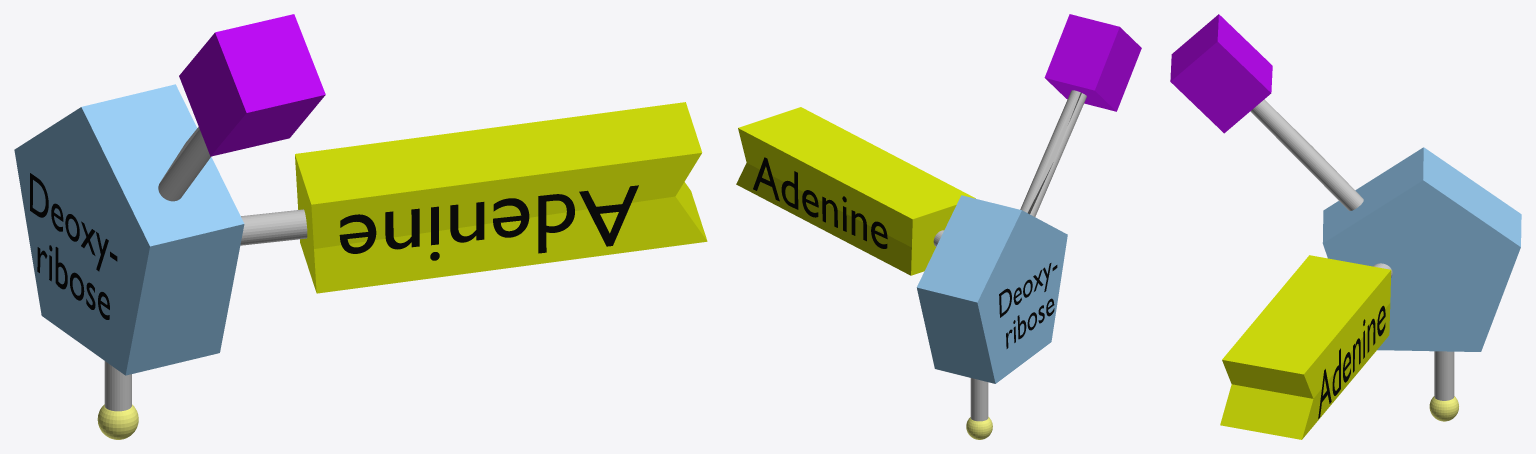
Rendered from adenine.glb.
3 renders of one model, left to right at view 1: azimuth 30°, elevation 25°; view 2: azimuth 150°, elevation 25°; view 3: azimuth 270°, elevation 25°, orthographic. The views are drawn at different scales.
Visible parts, largest first — view 1: Connector_Ribose_Base.001, Deoxyribose.004, Phosphate.001, Text.001, Text.006, Adenine; view 2: Deoxyribose.004, Connector_Ribose_Base.001, Phosphate.001, Text, Adenine, Text.006; view 3: Deoxyribose.004, Connector_Ribose_Base.001, Phosphate.001, Adenine, Text.
Part boxes in pixels (x1=…): Connector_Ribose_Base.001: x1=240, y1=102, x2=707, y2=293; Deoxyribose.004: x1=14, y1=84, x2=244, y2=375; Phosphate.001: x1=158, y1=14, x2=325, y2=201; Text.001: x1=339, y1=185, x2=638, y2=260; Text.006: x1=30, y1=173, x2=117, y2=319; Adenine: x1=97, y1=361, x2=138, y2=439; Deoxyribose.004: x1=916, y1=195, x2=1067, y2=383; Connector_Ribose_Base.001: x1=736, y1=107, x2=975, y2=275; Phosphate.001: x1=1020, y1=14, x2=1141, y2=216; Text: x1=753, y1=157, x2=887, y2=248; Adenine: x1=966, y1=378, x2=992, y2=439; Text.006: x1=999, y1=263, x2=1057, y2=348; Deoxyribose.004: x1=1322, y1=147, x2=1521, y2=351; Connector_Ribose_Base.001: x1=1220, y1=255, x2=1392, y2=439; Phosphate.001: x1=1170, y1=14, x2=1363, y2=210; Adenine: x1=1429, y1=351, x2=1458, y2=421; Text: x1=1318, y1=305, x2=1385, y2=418.
Size of the model in its own units: 1.71 by 1.63 by 1.35.
